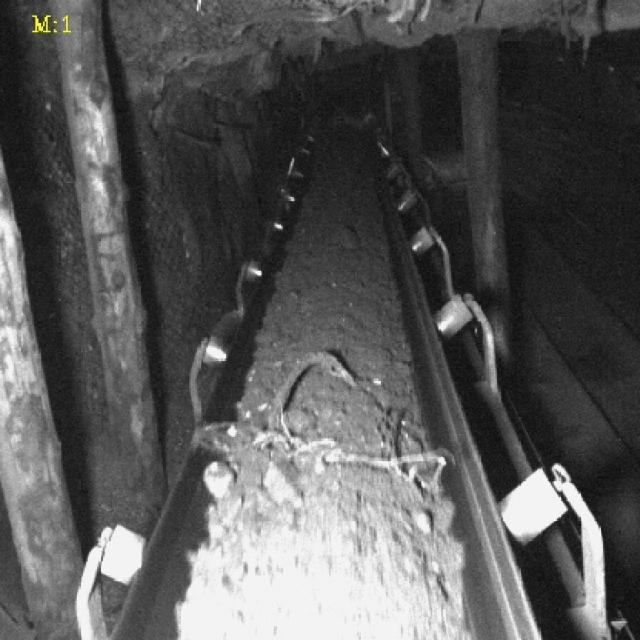bolt: (223, 351, 443, 492)
